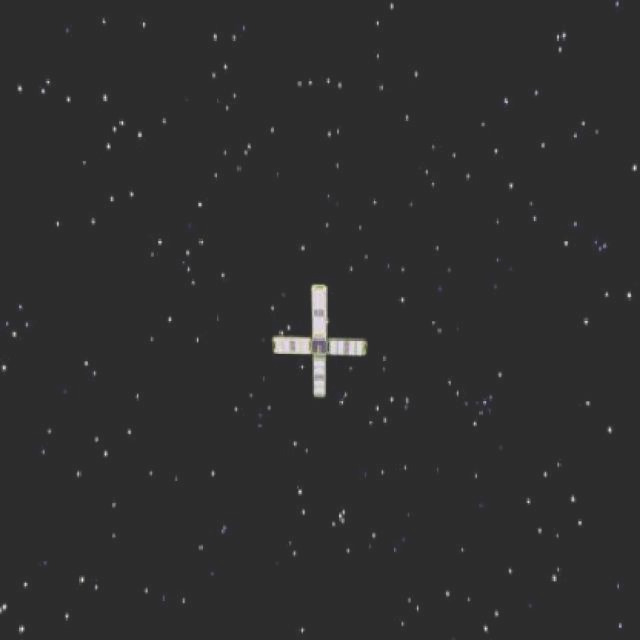medium_debris: (253, 277, 383, 408)
